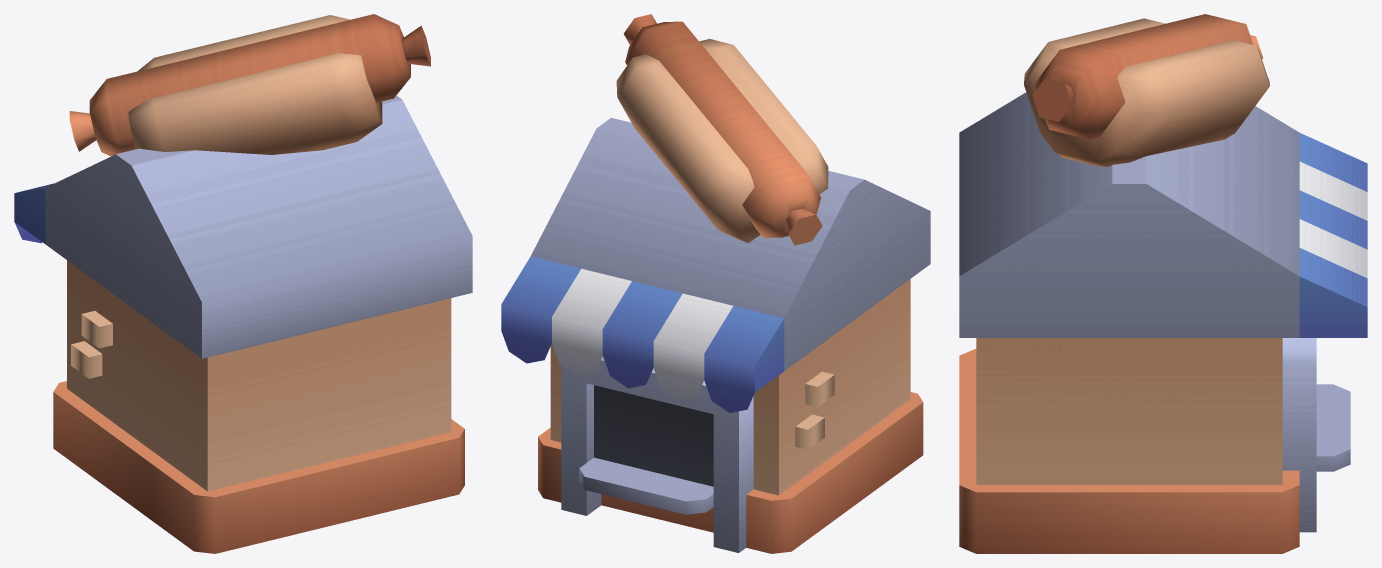
The model's file is kenney-stall-food.glb.
The picture shows the model from 3 angles, left to right: view 1: azimuth 30°, elevation 25°; view 2: azimuth 150°, elevation 25°; view 3: azimuth 270°, elevation 25°; orthographic projection. The views are drawn at different scales.
Parts seen in each view (by area): view 1: stall-food; view 2: stall-food; view 3: stall-food.
Boxes of the visible parts, x1,y1,x2,y2 form: stall-food: [14, 14, 472, 553]; stall-food: [501, 14, 930, 553]; stall-food: [959, 14, 1367, 553].
Bounding box in the file's own units: 1.04 × 1.54 × 1.2.
Materials: 1 (1 with a texture image).
